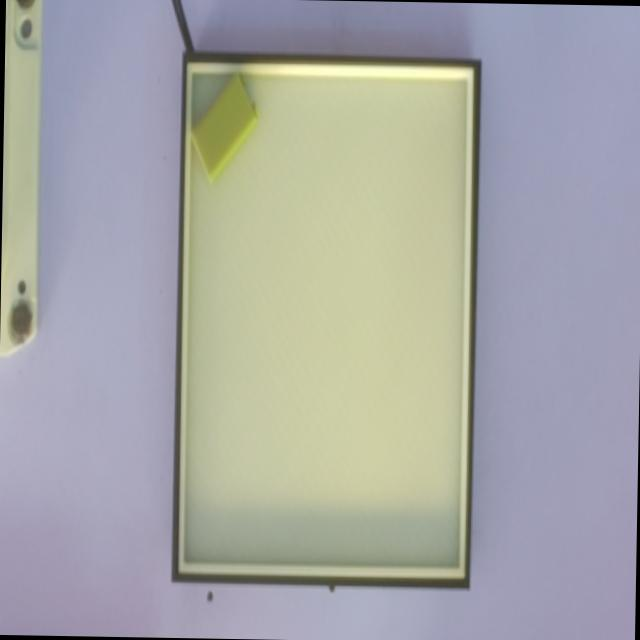bateria: (189, 70, 259, 183)
mesa: (171, 50, 482, 589)
